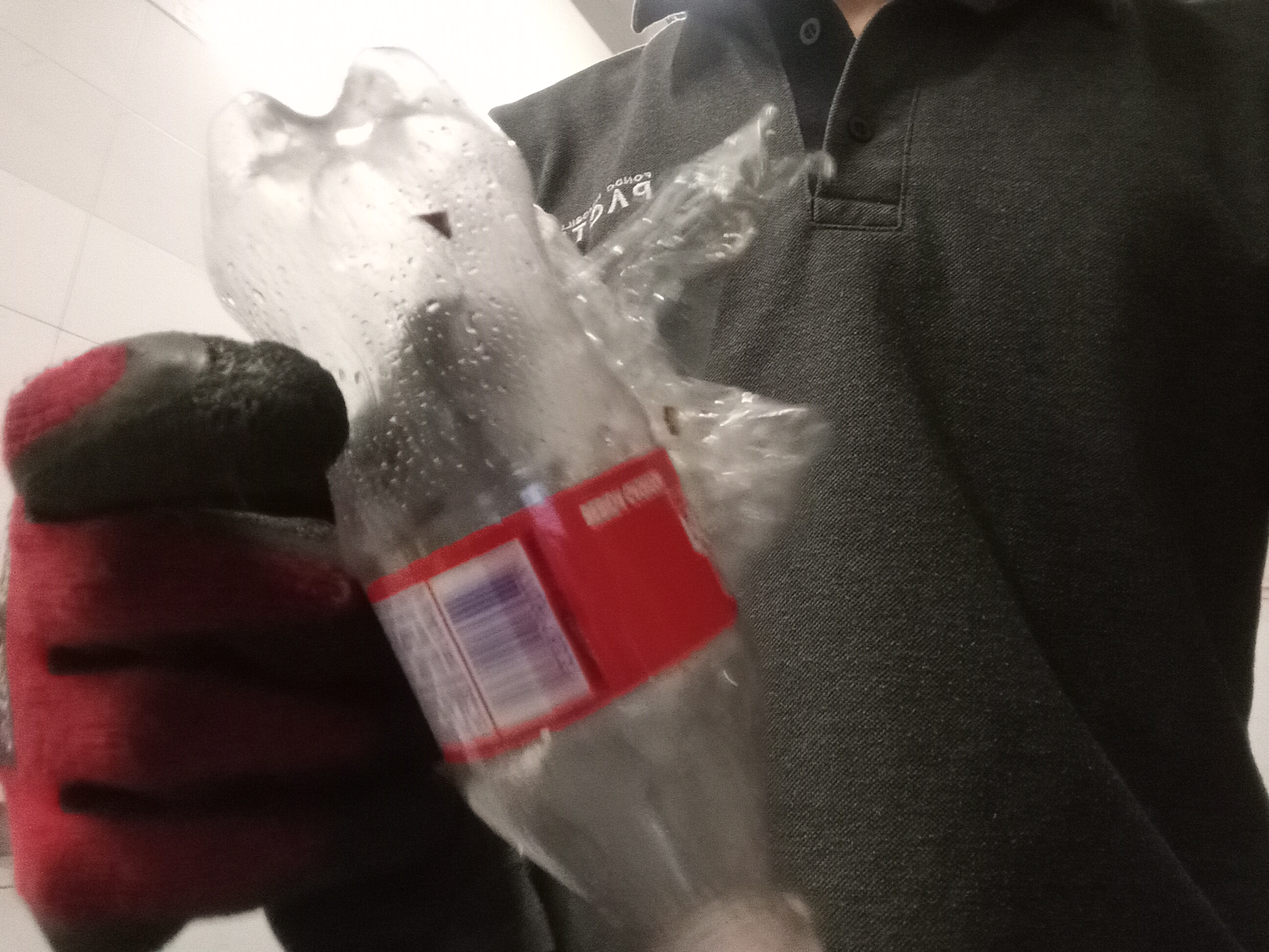Plastico: (203, 44, 824, 952)
